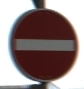No entry: (8, 7, 76, 81)
